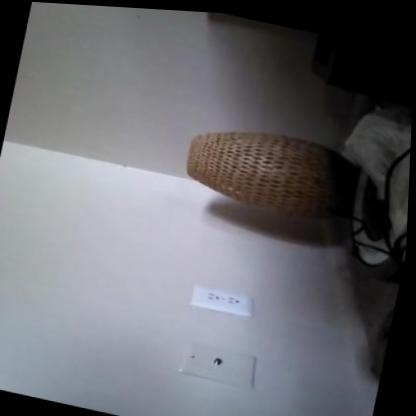OUTLET: (188, 284, 254, 318)
